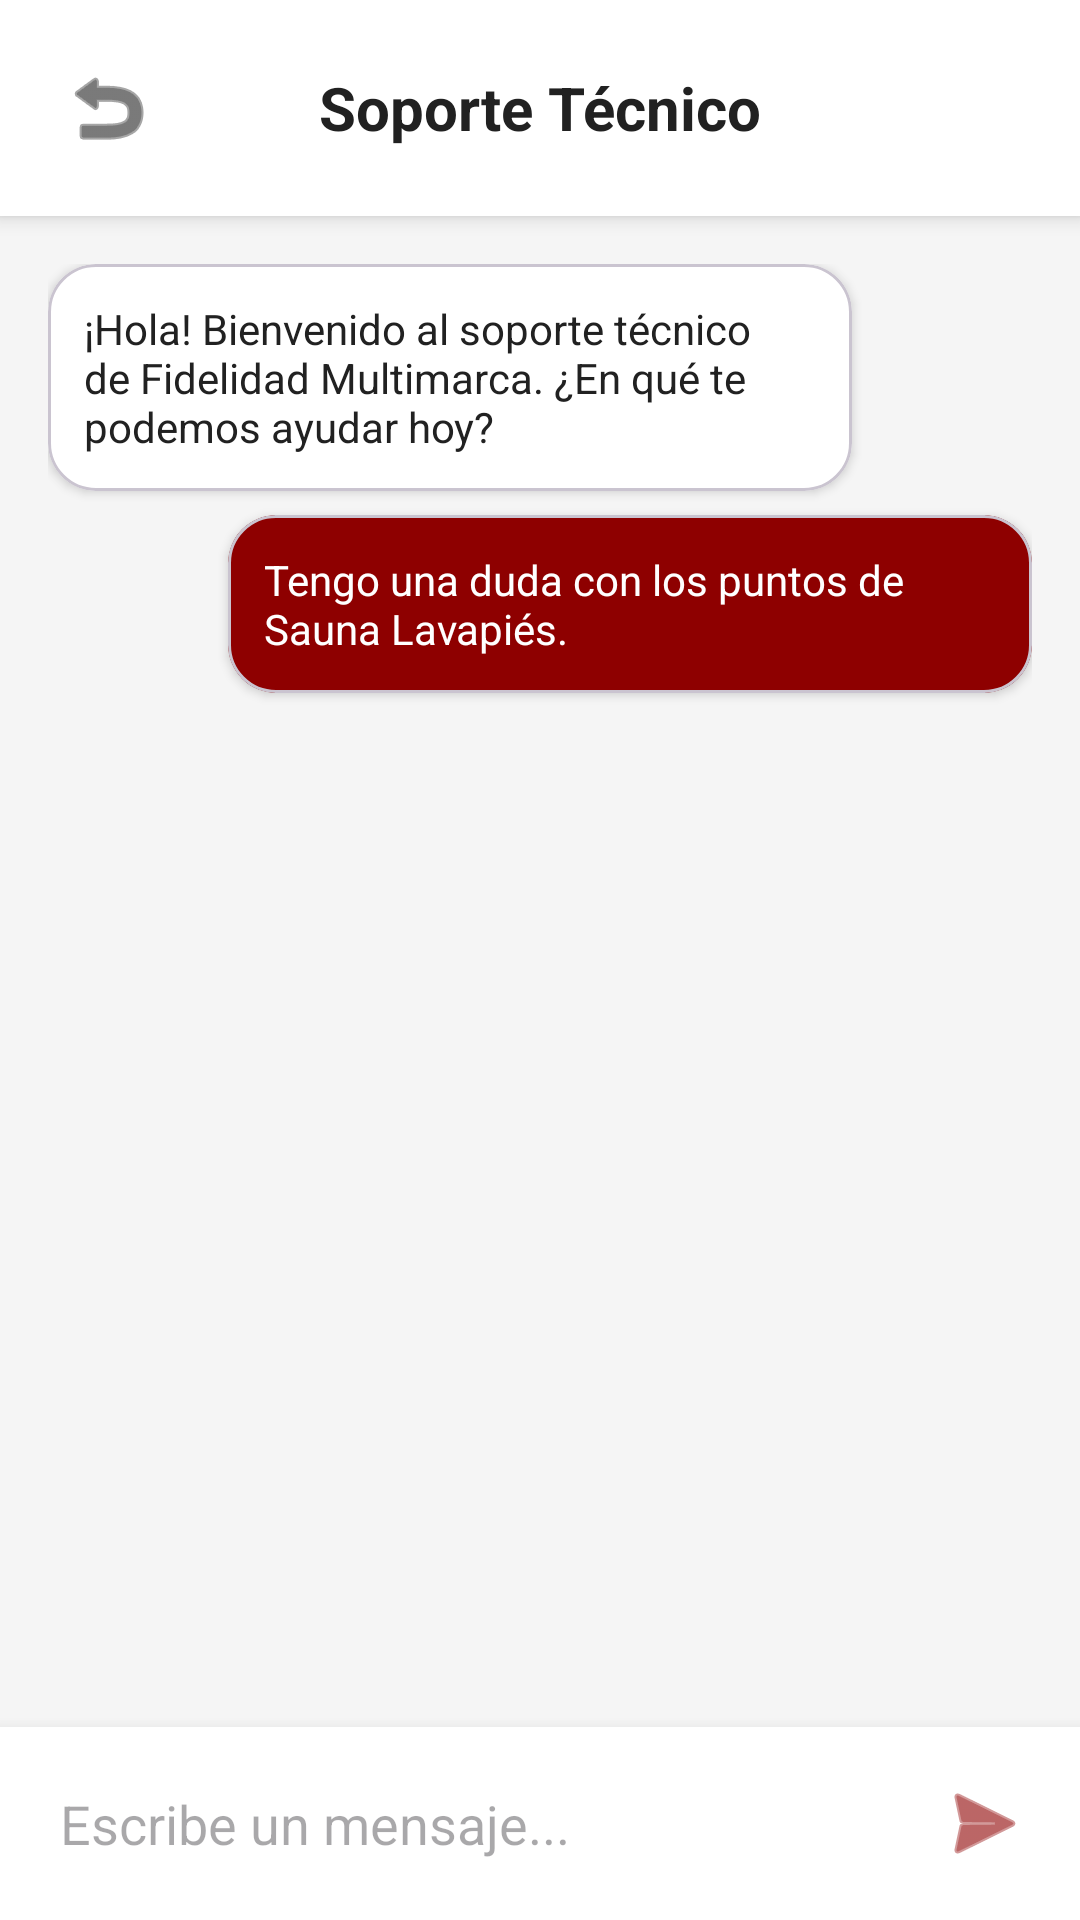

Screen size 1080×1920. Icon name, then its box in pixels as [x1=x1, y1=y1, x2=x2, y2=y2]:
revert: [x1=75, y1=77, x2=144, y2=140]
send: [x1=954, y1=1793, x2=1016, y2=1854]
